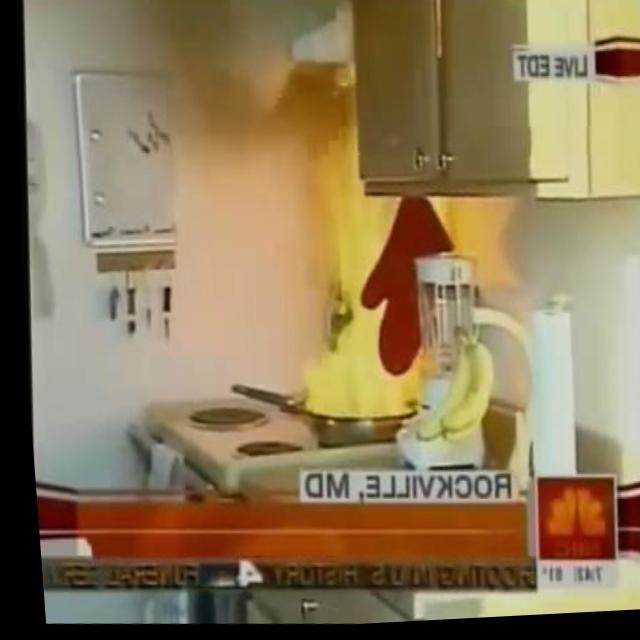fire: (267, 140, 453, 430)
